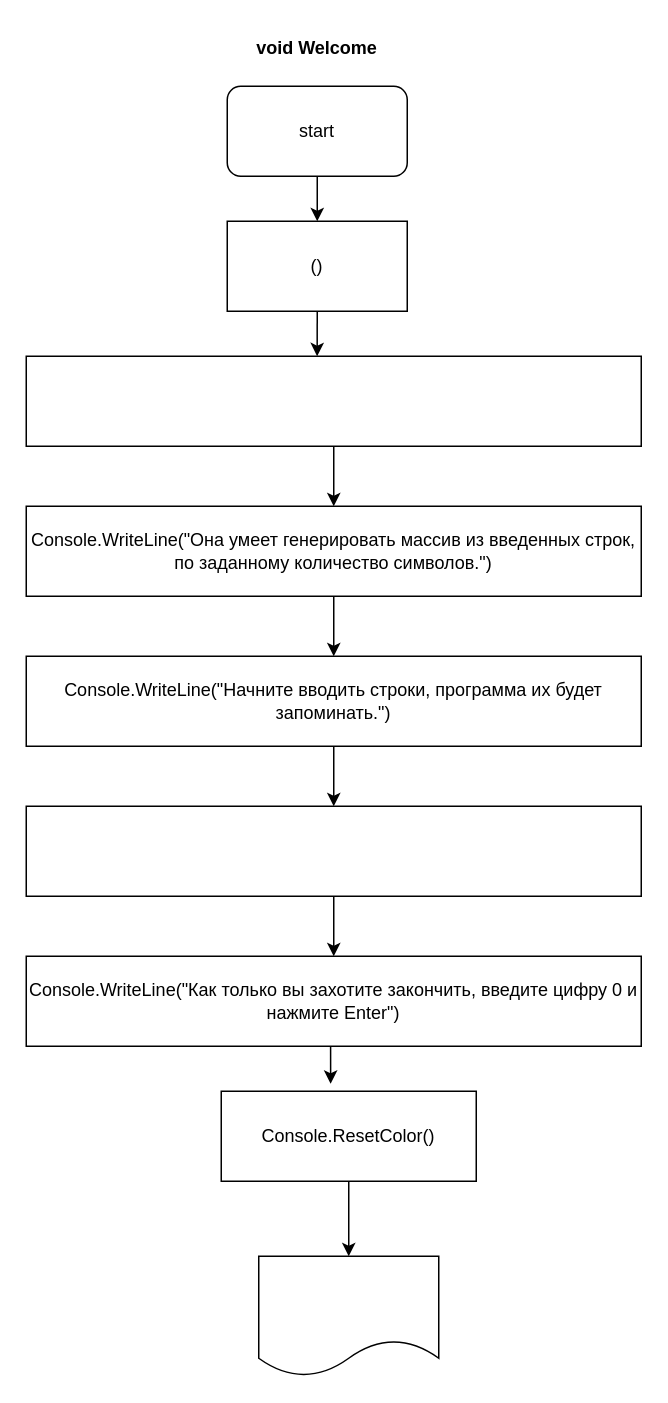
The diagram is 668 pixels wide and 1403 high, and some of its shapes have lost their labels. The centre of each missing label's shape, as x and y in pixels:
Console.ForegroundColor = ConsoleColor.DarkYellow: [333,850]
Console.WriteLine("Добро пожаловать в мою программу!"): [333,400]
return: [348,1315]
